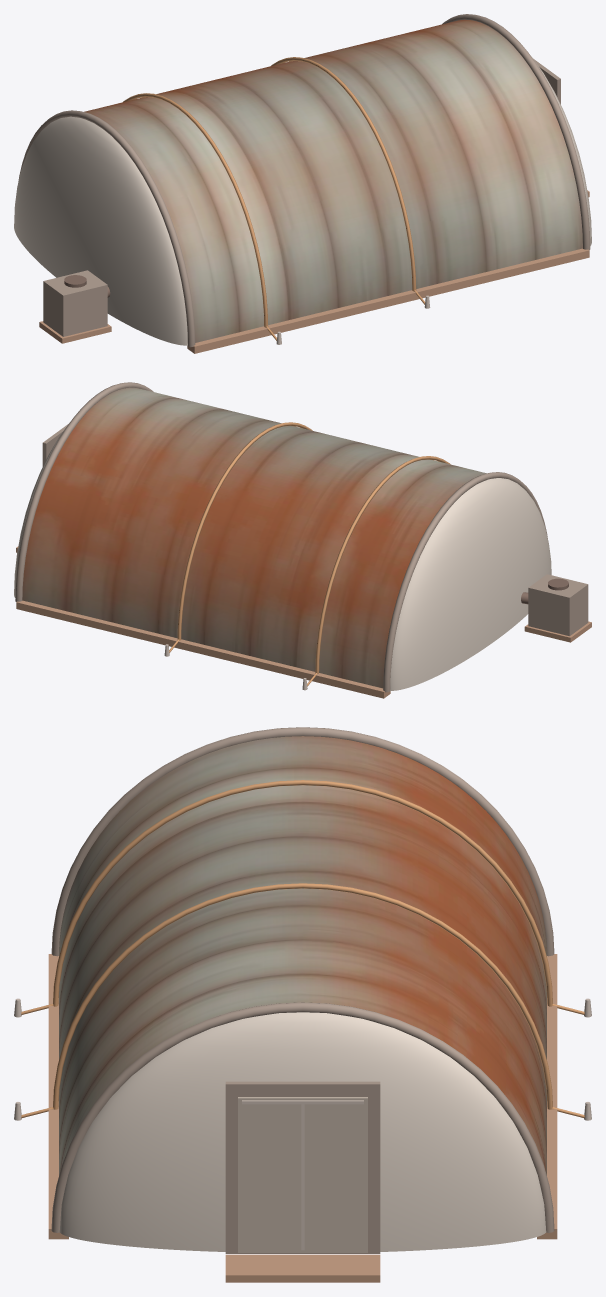
The model's file is I03_storage_tent_8m.glb.
3 views of the same model, one above another, from view 1: azimuth 30°, elevation 25°; view 2: azimuth 150°, elevation 25°; view 3: azimuth 270°, elevation 25° (orthographic). The views are drawn at different scales.
Visible parts, largest first — view 1: membrane, end_bulge, end_arch, ground_beam, anchor_strap; view 2: membrane, end_bulge, end_arch, ground_beam, anchor_strap; view 3: membrane, end_bulge, anchor_strap, end_arch, ground_beam, ground_peg.
Part boxes in pixels (x1,y1,x2,y2): membrane: [84, 19, 582, 342]; end_bulge: [14, 57, 591, 345]; end_arch: [18, 14, 590, 347]; ground_beam: [39, 190, 589, 353]; anchor_strap: [64, 57, 425, 340]; membrane: [22, 387, 486, 688]; end_bulge: [14, 423, 551, 690]; end_arch: [15, 382, 588, 692]; ground_beam: [16, 546, 591, 698]; anchor_strap: [169, 422, 568, 686]; membrane: [59, 736, 546, 1175]; end_bulge: [59, 1012, 546, 1251]; anchor_strap: [21, 780, 584, 1252]; end_arch: [51, 727, 554, 1253]; ground_beam: [48, 954, 557, 1282]; ground_peg: [14, 998, 591, 1250].
Size of the model in its own units: 11.06 by 3.21 by 7.1.
Materials: 6 (1 with a texture image).
